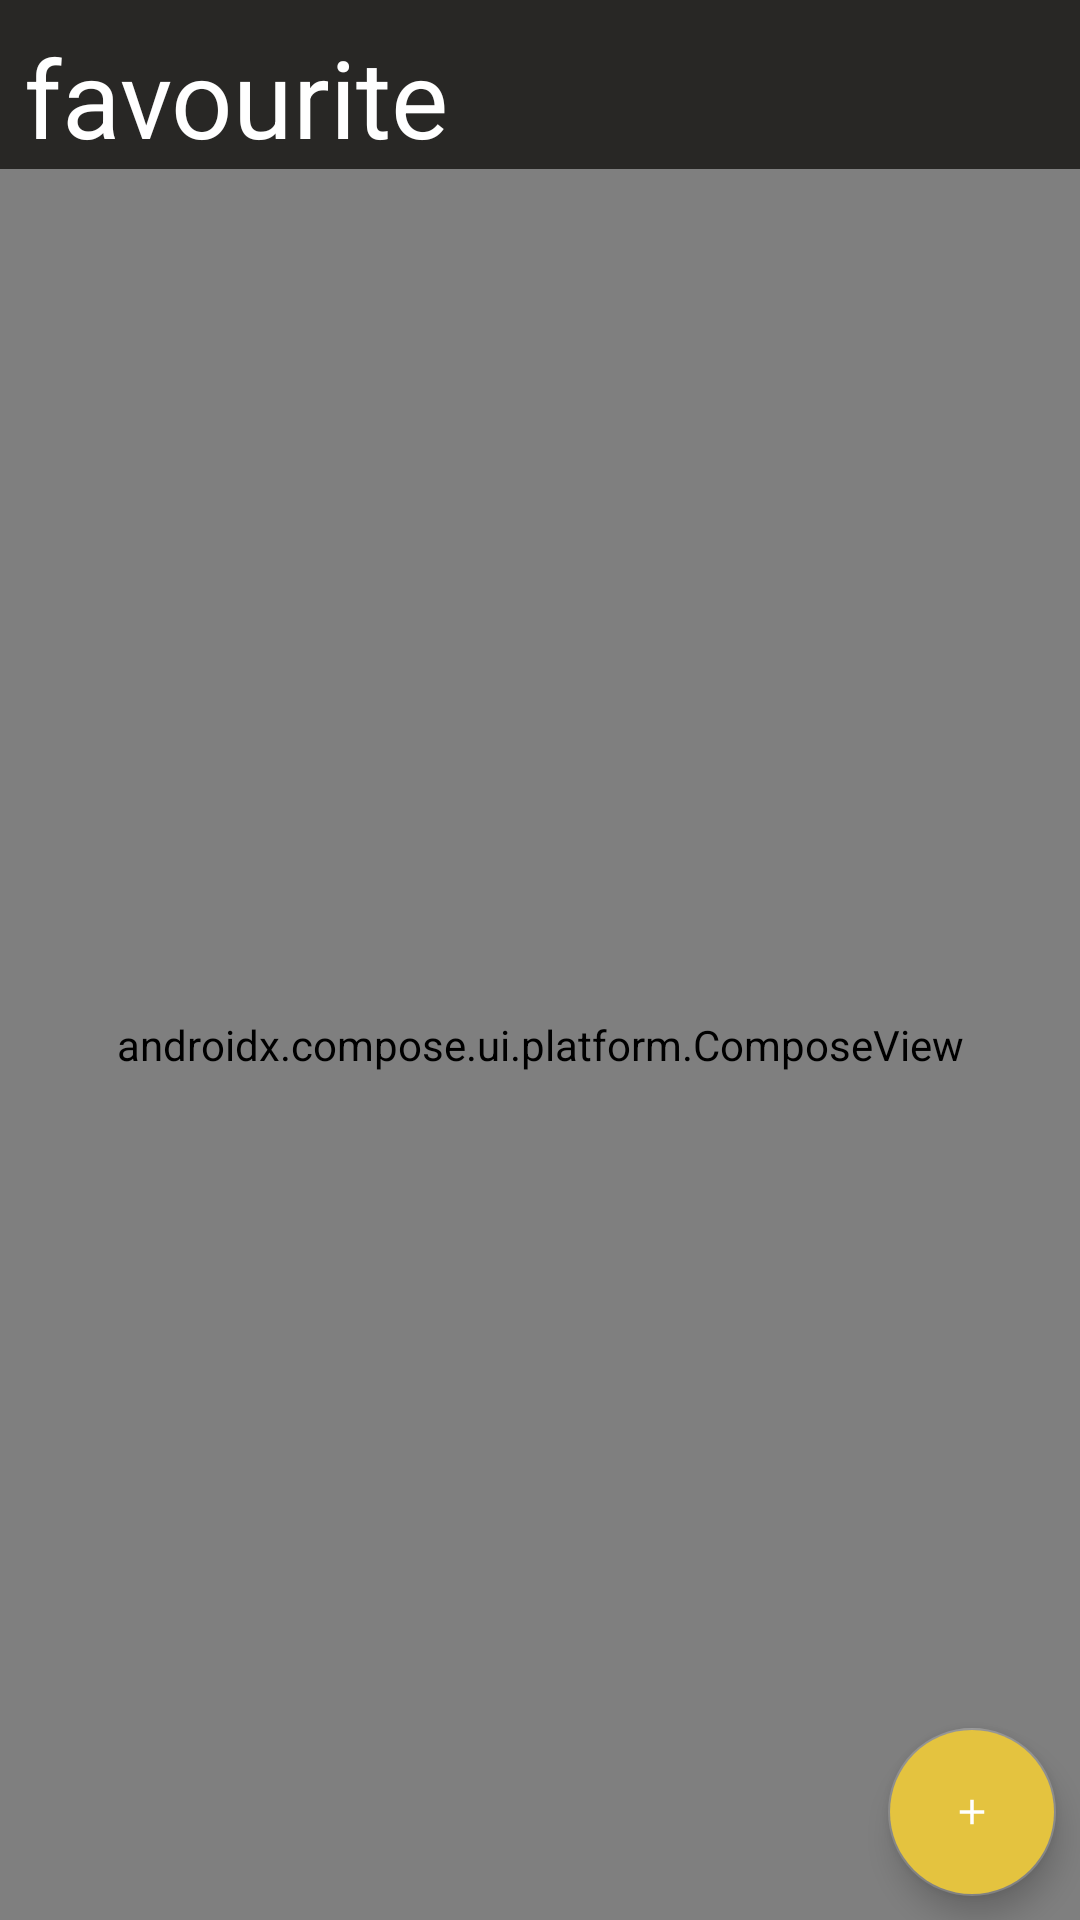

Screen size 1080 x 1920. Icon name, then its box in pixels as (x1, y1, x2, y2):
add: (890, 1728, 1054, 1894)
